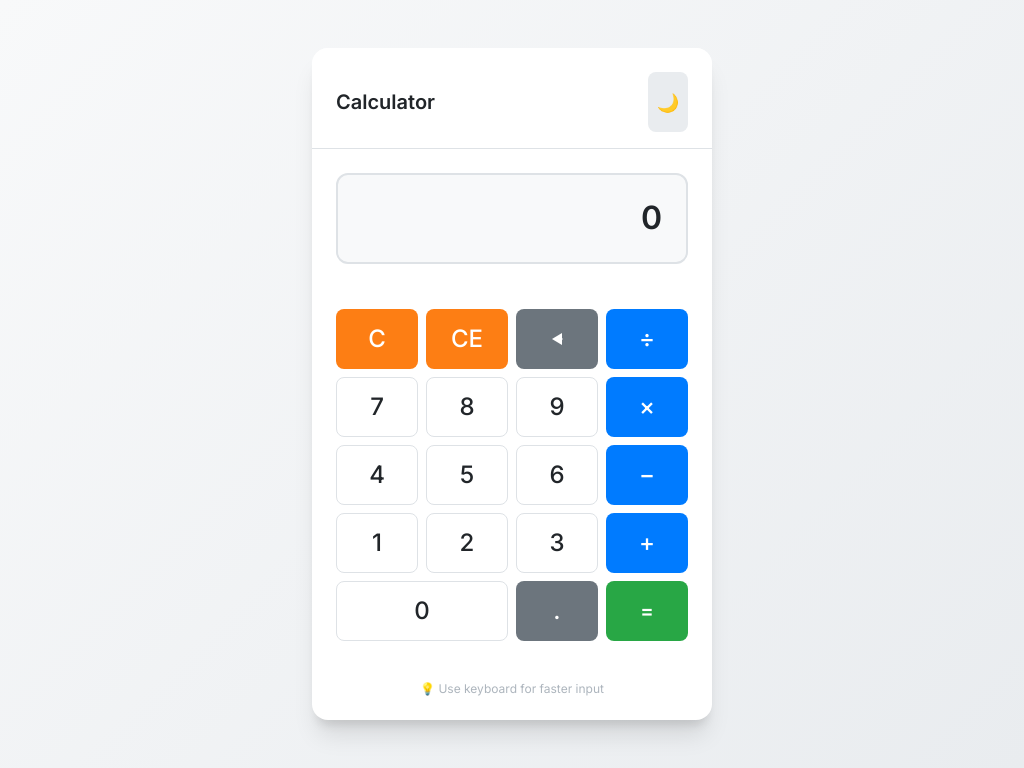
Test: App Component › toggles theme and saves to localStorage
The image size is (1024, 768).
Check: the icon "🌙" is shown, box x1=657 y1=92 x2=679 y2=113
Note: Click to toggle to dark
Click the button named "Toggle dark/light mode": (668, 102) x1=648 y1=72 x2=688 y2=132
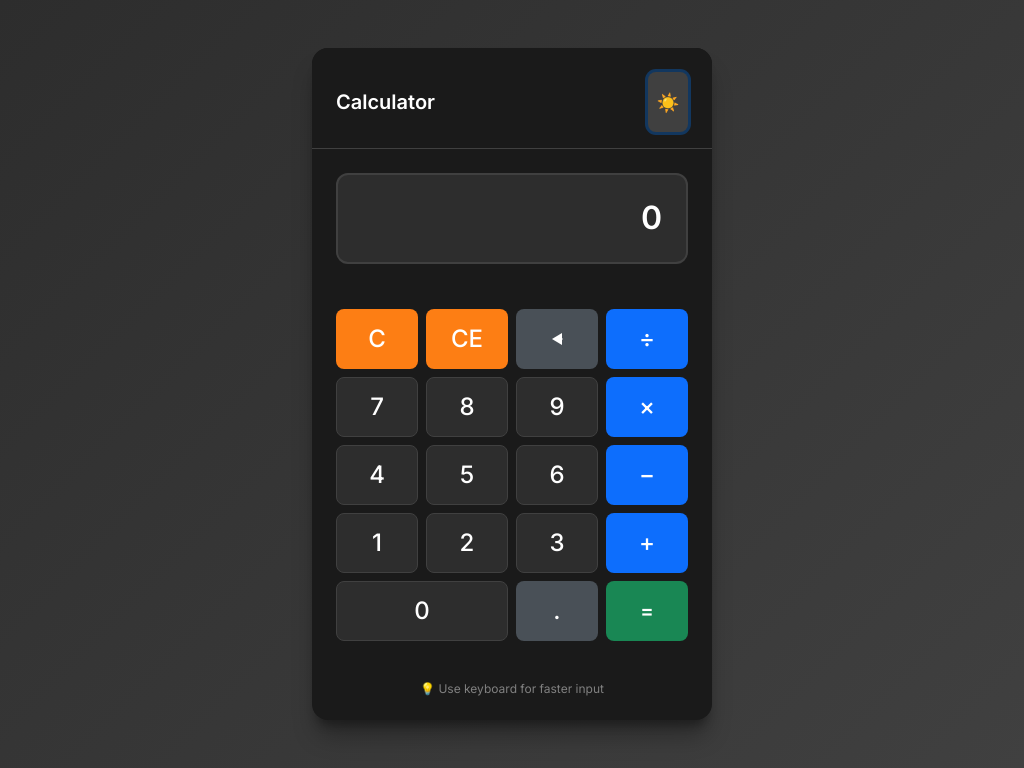
Check: the icon "☀️" is shown, box x1=657 y1=92 x2=679 y2=113
Note: Click again to toggle back to light
Click the button named "Toggle dark/light mode": (668, 102) x1=648 y1=72 x2=688 y2=132
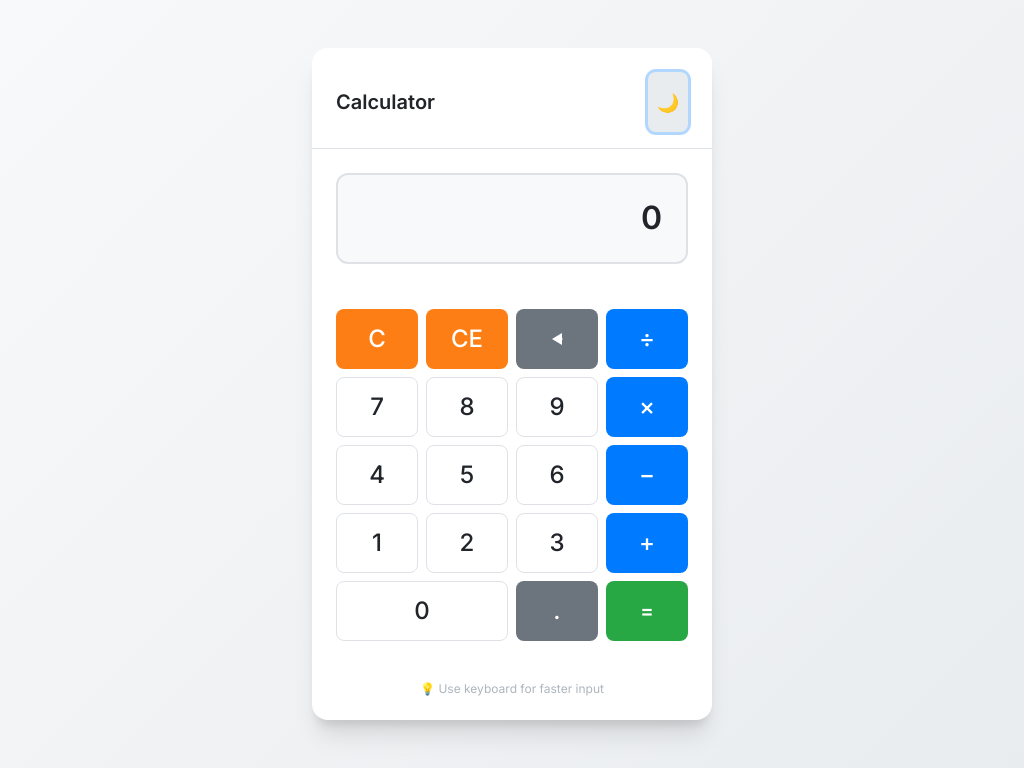
Check: the icon "🌙" is shown, box x1=657 y1=92 x2=679 y2=113
